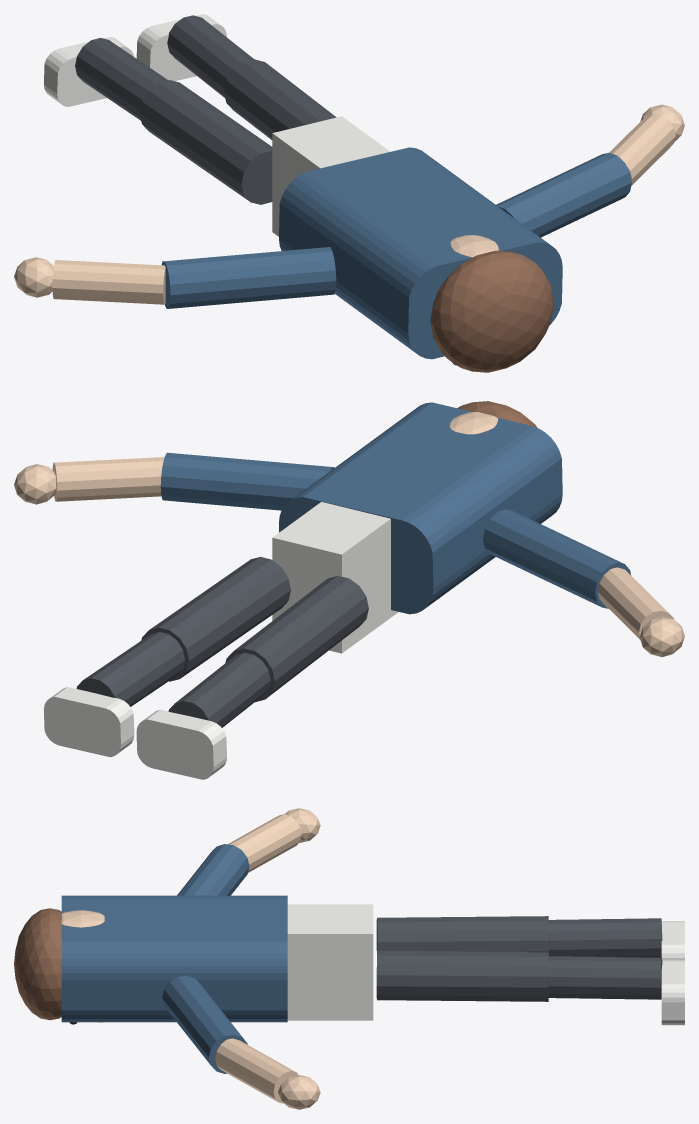
The model's file is CHAR_FEMALE_BUSINESS_002.glb.
The picture shows the model from 3 angles, top to bottom: view 1: azimuth 30°, elevation 25°; view 2: azimuth 150°, elevation 25°; view 3: azimuth 270°, elevation 25°; orthographic projection. The views are drawn at different scales.
Visible parts, largest first — view 1: torso_jacket_003, hair_cap_001, thigh_011, upper_arm_005, upper_arm_008, shirt_panel_004, thigh_014, forearm_006, shin_012, shin_015, forearm_009, shoe_013 (+4 smaller); view 2: torso_jacket_003, shirt_panel_004, thigh_014, thigh_011, upper_arm_008, upper_arm_005, shoe_013, shoe_016, shin_015, forearm_009, shin_012, forearm_006 (+4 smaller); view 3: torso_jacket_003, shirt_panel_004, thigh_014, thigh_011, shin_015, hair_cap_001, shin_012, upper_arm_008, forearm_009, upper_arm_005, forearm_006, shoe_016 (+4 smaller).
Part boxes in pixels (x1,y1,x2,y2): torso_jacket_003: (279,147,562,359); hair_cap_001: (430,250,553,372); thigh_011: (139,80,272,204); upper_arm_005: (161,247,336,308); upper_arm_008: (496,152,631,237); shirt_panel_004: (272,116,390,236); thigh_014: (224,59,336,139); forearm_006: (52,260,165,304); shin_012: (75,38,167,120); shin_015: (167,15,254,97); forearm_009: (609,114,675,185); shoe_013: (44,37,133,106); torso_jacket_003: (279,402,562,614); shirt_panel_004: (272,502,398,653); thigh_014: (141,557,290,681); thigh_011: (225,576,368,702); upper_arm_008: (160,452,334,510); upper_arm_005: (483,509,631,608); shoe_013: (136,709,226,779); shoe_016: (43,687,134,757); shin_015: (76,632,184,706); forearm_009: (52,457,164,501); shin_012: (168,652,270,727); forearm_006: (598,567,673,639); torso_jacket_003: (61,895,287,1022); shirt_panel_004: (287,904,373,1020); thigh_014: (376,950,548,1001); thigh_011: (376,916,549,955); shin_015: (548,956,662,999); hair_cap_001: (14,908,61,1020); shin_012: (548,918,662,957); upper_arm_008: (162,975,247,1073); forearm_009: (215,1038,298,1103); upper_arm_005: (177,844,249,895); forearm_006: (228,814,301,872); shoe_016: (661,960,684,1025).
Bounding box in the file's own units: 1.72 × 0.2918 × 1.72.
